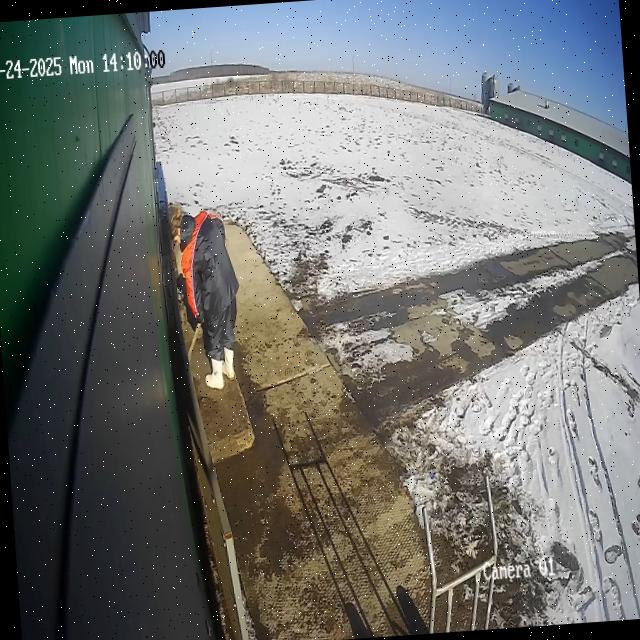Red uniform: (166, 198, 247, 395)
